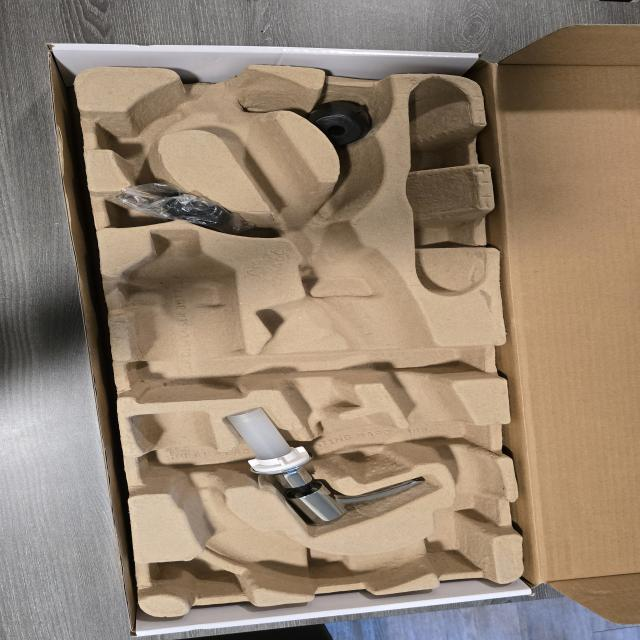1m: (129, 71, 500, 592)
2: (219, 407, 423, 524)
3m: (121, 229, 245, 402)
4m: (407, 78, 487, 294)
5: (313, 101, 375, 146)
6m: (97, 95, 194, 167)
7: (103, 183, 246, 235)
